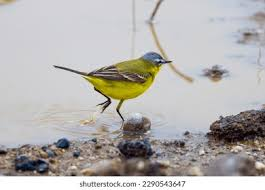Walking: (48, 45, 182, 128)
